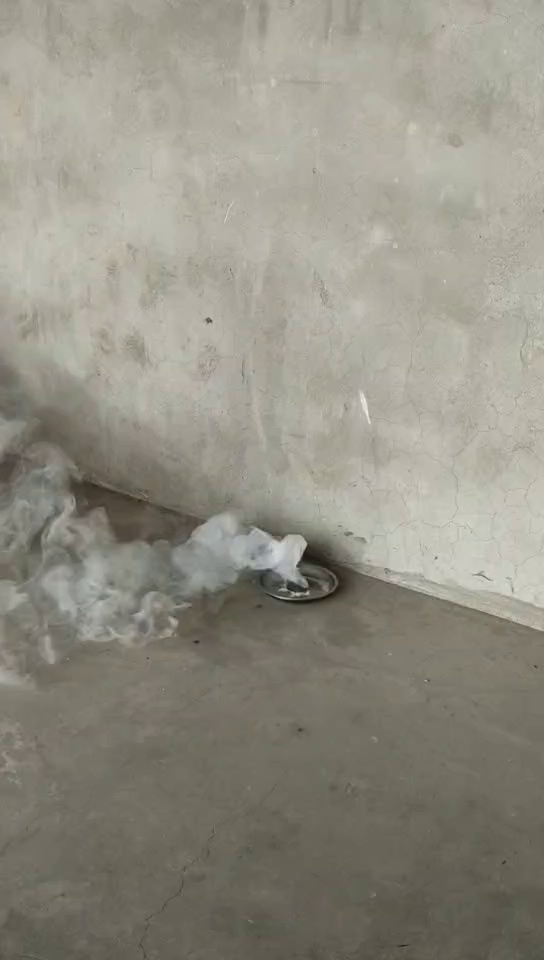yanwu: (9, 434, 305, 630)
